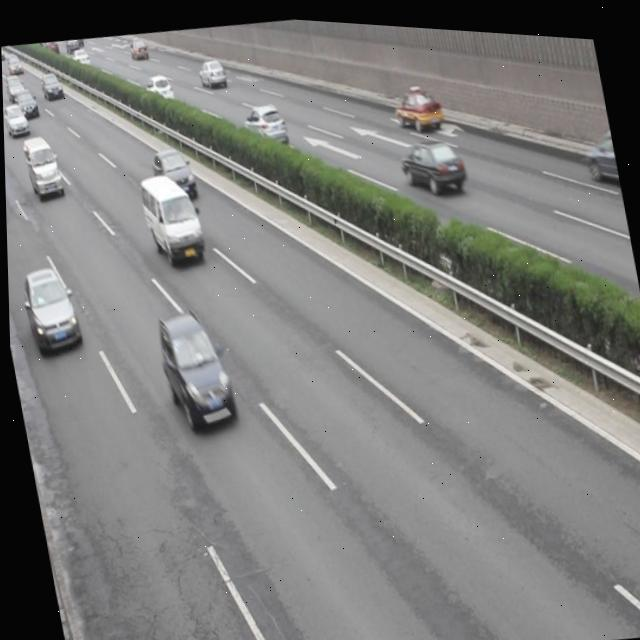car: (151, 301, 237, 431), (17, 261, 83, 355), (395, 127, 468, 199), (388, 77, 446, 133), (577, 115, 621, 186), (238, 95, 290, 150), (148, 141, 195, 199)
truck: (136, 163, 207, 270), (19, 131, 65, 201)
